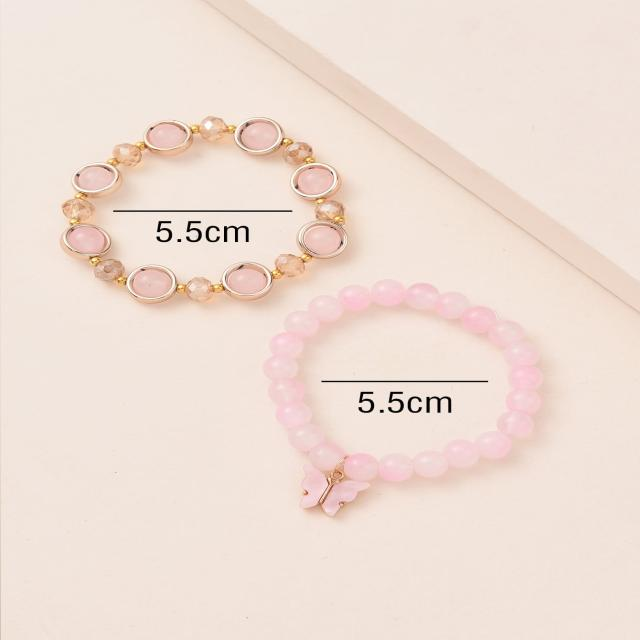bracelet: (42, 79, 625, 579)
